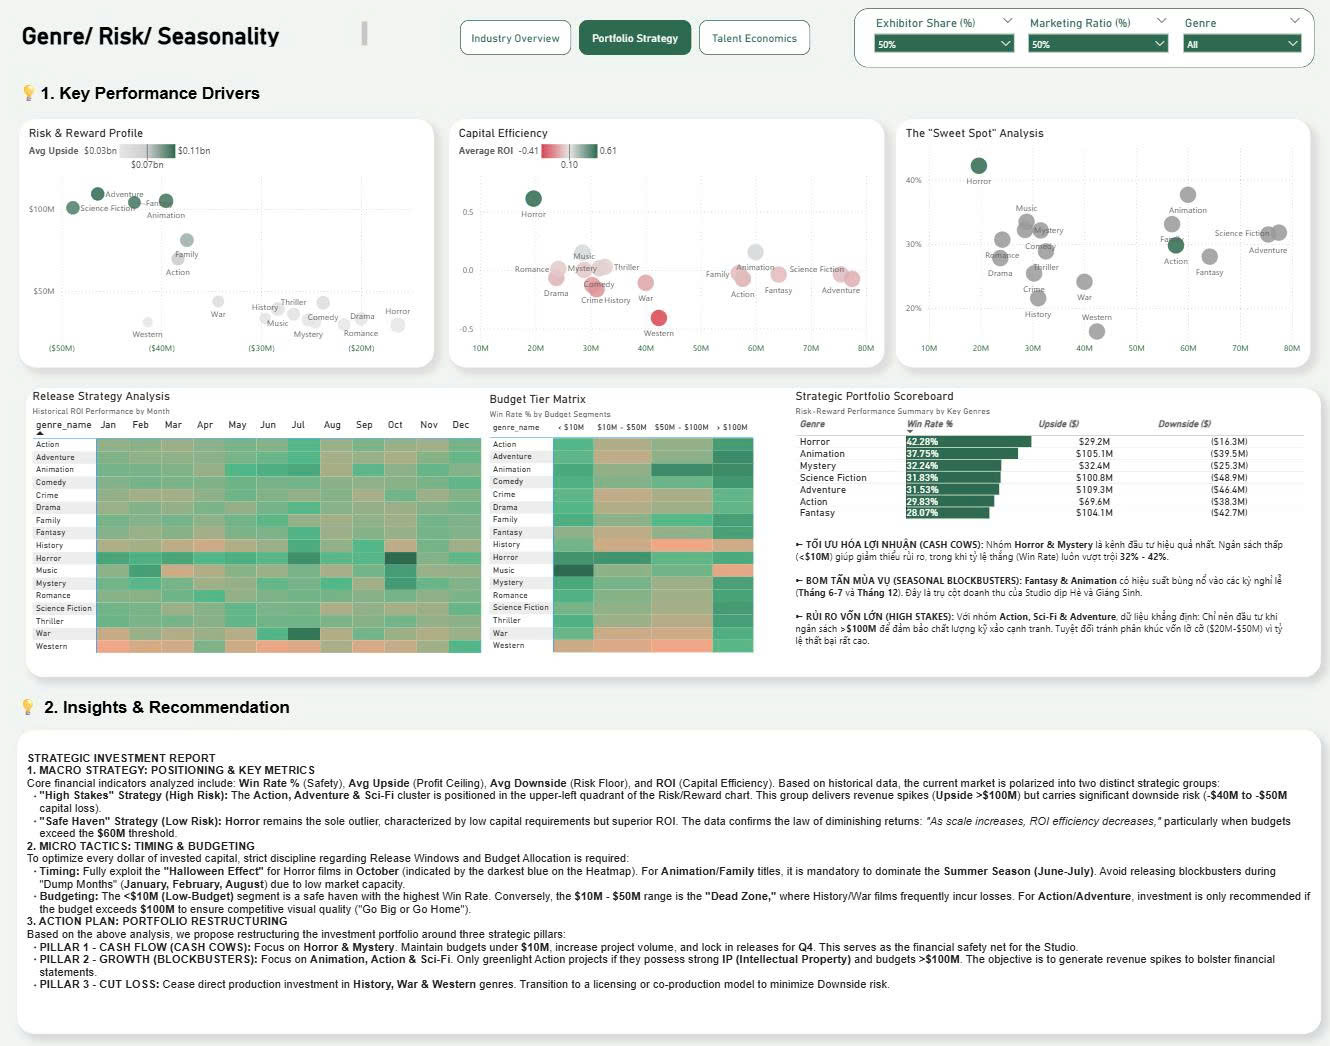

The dashboard page shown, as its layout file describes it:
{"tool":"powerbi","page":{"name":"Page 2","canvas":[1900,1500],"ordinal":1},"visuals":[{"type":"textbox","box":[36.7,555,1850,413.3],"z":0},{"type":"shape","box":[1220,12.7,658.2,85.5],"z":1000},{"type":"textbox","box":[26,27,504,46],"z":2000},{"type":"slicer","fields":{"Values":["Ty_Le_Marketing.Ty_Le_Marketing"]},"box":[1459,19,221,92],"z":3000},{"type":"slicer","fields":{"Values":["Ty_Le_Rap.Ty_Le_Rap"]},"box":[1238,19,221,108],"z":4000},{"type":"slicer","fields":{"Values":["Dim_Genres.genre_name"]},"box":[1680,19,190,92],"z":5000},{"type":"scatterChart","title":"Risk & Reward Profile","fields":{"Y":["Fact_Financials.Avg Upside"],"X":["Fact_Financials.Avg Downside"],"Size":["Fact_Financials.Win Rate %"],"Category":["Dim_Genres.genre_name"]},"box":[26.7,171,593,355],"z":6000},{"type":"scatterChart","title":"Capital Efficiency","fields":{"X":["Avg(Fact_Financials.budget)"],"Y":["Fact_Financials.Avg Movie ROI"],"Category":["Dim_Genres.genre_name"]},"box":[641.7,171.7,621.7,355],"z":7000},{"type":"scatterChart","title":"The \"Sweet Spot\" Analysis","fields":{"X":["Avg(Fact_Financials.budget)"],"Y":["Fact_Financials.Win Rate %"],"Category":["Dim_Genres.genre_name"]},"box":[1280,171.7,591.7,355],"z":8000},{"type":"pivotTable","title":"Release Strategy Analysis","fields":{"Rows":["Dim_Genres.genre_name"],"Columns":["Dim_Movies.Month Name"],"Values":["Fact_Financials.Avg Movie ROI"]},"box":[41.7,556.7,653.3,415],"z":9000},{"type":"pivotTable","title":"Budget Tier Matrix","fields":{"Rows":["Dim_Genres.genre_name"],"Columns":["Fact_Financials.Budget Tier"],"Values":["Fact_Financials.Win Rate %"]},"box":[695,561.7,436.7,406.7],"z":10000},{"type":"tableEx","title":"Strategic Portfolio Scoreboard","fields":{"Values":["Bridge_Movie_Genres.genre_name","Fact_Financials.Win Rate %","Fact_Financials.Avg Upside","Fact_Financials.Avg Downside"]},"box":[1131.7,556.7,738.3,208.3],"z":11000},{"type":"textbox","box":[1132,766,718,182],"z":12000},{"type":"textbox","box":[24,1044,1876,434],"z":13000},{"type":"textbox","box":[19.3,988.4,1267,44.2],"z":14000},{"type":"textbox","box":[20,112,510,60],"z":15000},{"type":"shape","box":[657.6,30.3,159.1,50],"z":16000},{"type":"shape","box":[827.3,30.3,160.6,50],"z":17000},{"type":"shape","box":[998.5,30.3,159.1,50],"z":18000}]}

Visuals, with their boxes in screenshot pixels (x1, y1, x2, y2), scaled from the page's 1900x1500 canvas onto the 1330x1046 screenshot:
textbox: crop(26, 387, 1321, 675)
shape: crop(854, 9, 1315, 68)
textbox: crop(18, 19, 371, 51)
slicer - Ty_Le_Marketing.Ty_Le_Marketing: crop(1021, 13, 1176, 77)
slicer - Ty_Le_Rap.Ty_Le_Rap: crop(867, 13, 1021, 89)
slicer - Dim_Genres.genre_name: crop(1176, 13, 1309, 77)
"Risk & Reward Profile" scatterChart: crop(19, 119, 434, 367)
"Capital Efficiency" scatterChart: crop(449, 120, 884, 367)
"The "Sweet Spot" Analysis" scatterChart: crop(896, 120, 1310, 367)
"Release Strategy Analysis" pivotTable: crop(29, 388, 486, 678)
"Budget Tier Matrix" pivotTable: crop(486, 392, 792, 675)
"Strategic Portfolio Scoreboard" tableEx: crop(792, 388, 1309, 533)
textbox: crop(792, 534, 1295, 661)
textbox: crop(17, 728, 1329, 1031)
textbox: crop(14, 689, 900, 720)
textbox: crop(14, 78, 371, 120)
shape: crop(460, 21, 572, 56)
shape: crop(579, 21, 692, 56)
shape: crop(699, 21, 810, 56)
